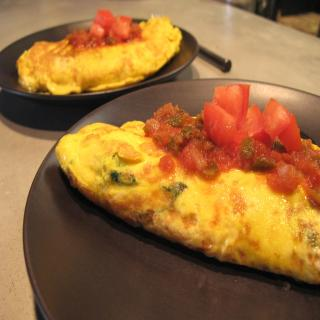tomato: (200, 101, 237, 147), (244, 103, 274, 144), (262, 98, 290, 139), (280, 112, 304, 154), (96, 9, 114, 33)
